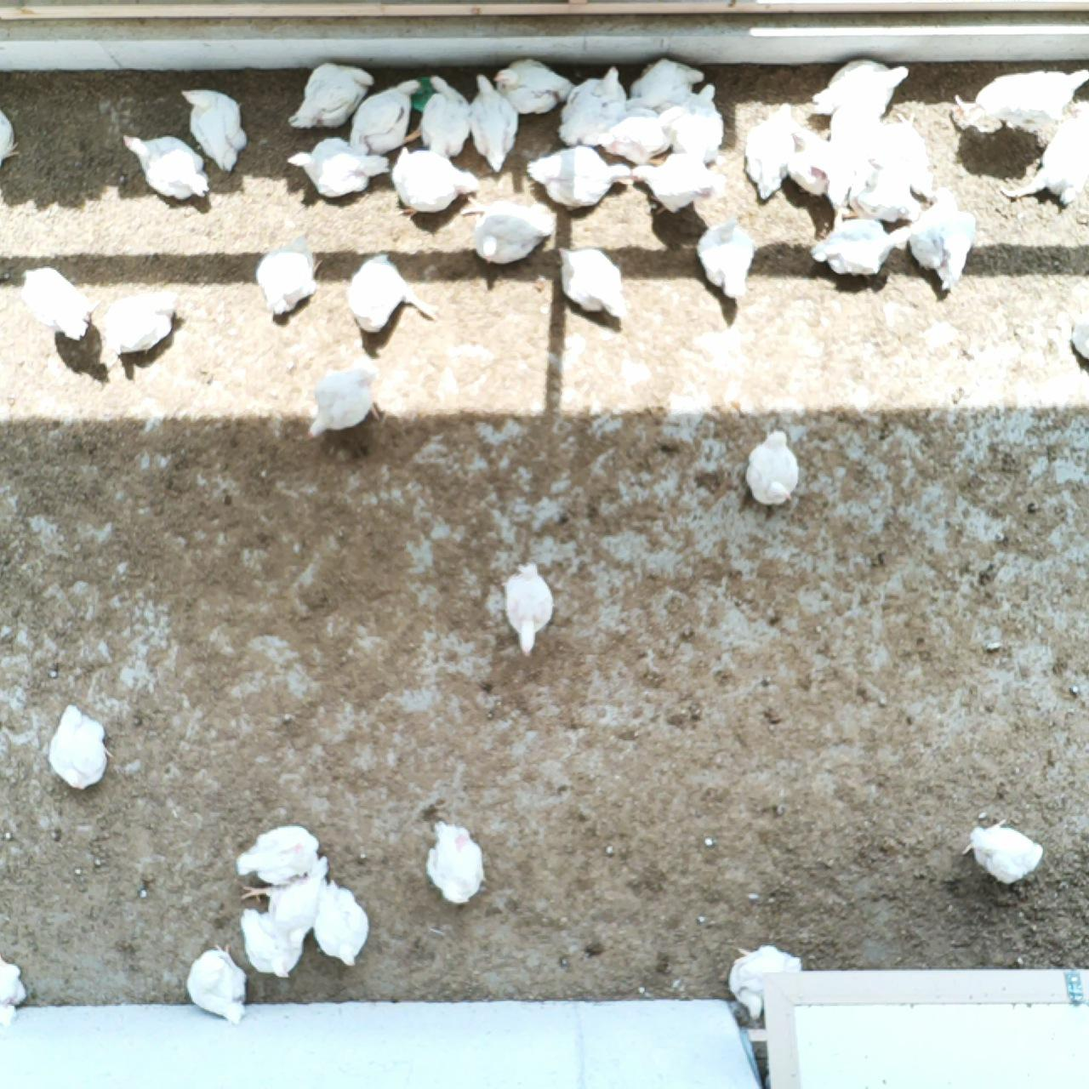chicken: (1000, 102, 1089, 206), (949, 67, 1089, 127), (346, 253, 439, 333), (245, 858, 325, 950), (911, 185, 976, 291), (526, 146, 633, 210), (306, 360, 384, 441), (288, 136, 388, 198), (391, 148, 479, 218), (461, 200, 553, 266), (632, 152, 727, 215), (124, 134, 210, 202), (729, 945, 806, 1019), (351, 80, 424, 158), (811, 221, 911, 277), (20, 267, 95, 341), (814, 63, 908, 122), (289, 64, 374, 129), (964, 817, 1045, 885), (741, 103, 799, 197), (182, 89, 248, 171), (258, 234, 325, 314), (493, 49, 575, 114), (558, 246, 629, 319), (102, 289, 178, 357), (51, 704, 111, 790), (241, 818, 319, 883), (312, 882, 371, 966), (470, 75, 521, 172), (189, 941, 249, 1023), (884, 114, 937, 200), (241, 906, 304, 978), (700, 218, 754, 301), (428, 821, 484, 901), (420, 74, 471, 160), (504, 563, 553, 651), (745, 430, 800, 505), (561, 68, 624, 128), (555, 99, 628, 150), (827, 105, 887, 167), (862, 169, 923, 228), (791, 130, 841, 200), (631, 59, 700, 106), (610, 116, 673, 167), (671, 109, 725, 164), (830, 167, 878, 218), (0, 952, 26, 1028), (680, 84, 723, 118), (0, 109, 20, 168), (623, 95, 672, 115), (1074, 310, 1089, 363)
